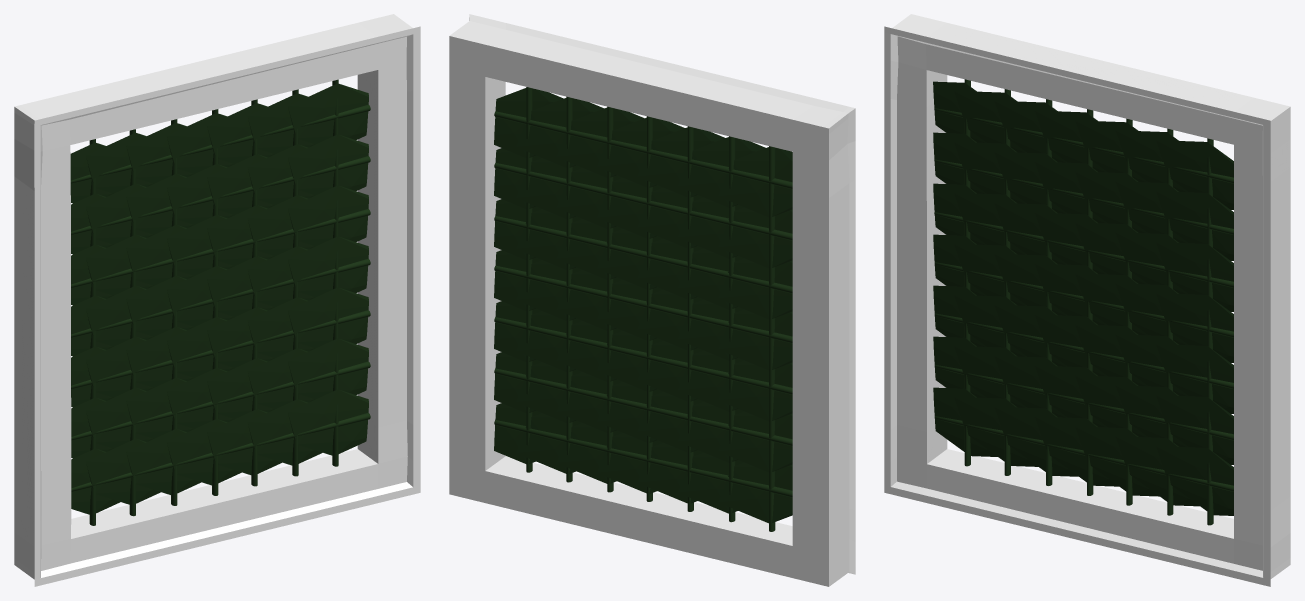
3 views of the same model, side by side, from view 1: azimuth 30°, elevation 25°; view 2: azimuth 150°, elevation 25°; view 3: azimuth 330°, elevation 25° (orthographic).
Visible parts, largest first — view 1: ta9A, baro, Icosphere.042, Icosphere, Icosphere.007, Icosphere.021, Icosphere.028, Icosphere.035, Icosphere.014, Icosphere.043, Icosphere.046, Icosphere.045 (+39 smaller); view 2: ta9A, baro, Icosphere.006, Icosphere.020, Icosphere.034, Icosphere.048, Icosphere.041, Icosphere.027, Icosphere.013, Icosphere.002, Icosphere.001, Icosphere.004 (+39 smaller); view 3: ta9A, baro, Icosphere.042, Icosphere, Icosphere.007, Icosphere.021, Icosphere.028, Icosphere.035, Icosphere.014, Icosphere.043, Icosphere.044, Icosphere.045 (+39 smaller).
Part boxes in pixels (box(x1,y1,x2,y2)): ta9A: box(14, 14, 420, 586); baro: box(70, 79, 370, 525); Icosphere.042: box(288, 389, 368, 455); Icosphere: box(288, 83, 368, 144); Icosphere.007: box(288, 134, 368, 195); Icosphere.021: box(288, 236, 368, 297); Icosphere.028: box(288, 287, 368, 348); Icosphere.035: box(288, 338, 368, 399); Icosphere.014: box(288, 185, 368, 246); Icosphere.043: box(247, 399, 322, 465); Icosphere.046: box(126, 429, 201, 494); Icosphere.045: box(166, 419, 241, 485); ta9A: box(449, 14, 855, 586); baro: box(494, 87, 792, 531); Icosphere.006: box(718, 147, 792, 217); Icosphere.020: box(718, 258, 792, 319); Icosphere.034: box(718, 360, 792, 421); Icosphere.048: box(718, 462, 792, 523); Icosphere.041: box(718, 411, 792, 472); Icosphere.027: box(718, 309, 792, 370); Icosphere.013: box(718, 207, 792, 268); Icosphere.002: box(556, 107, 644, 177); Icosphere.001: box(516, 98, 603, 167); Icosphere.004: box(637, 127, 725, 197); ta9A: box(884, 14, 1290, 586); baro: box(934, 79, 1233, 525); Icosphere.042: box(1156, 446, 1233, 515); Icosphere: box(1155, 140, 1233, 209); Icosphere.007: box(1156, 191, 1233, 260); Icosphere.021: box(1156, 293, 1233, 362); Icosphere.028: box(1156, 344, 1233, 413); Icosphere.035: box(1156, 395, 1233, 464); Icosphere.014: box(1156, 242, 1233, 311); Icosphere.043: box(1115, 436, 1199, 506); Icosphere.044: box(1075, 426, 1159, 496); Icosphere.045: box(1034, 416, 1118, 486).
Bounding box in the file's own units: 3.48 × 4.01 × 0.3658.
